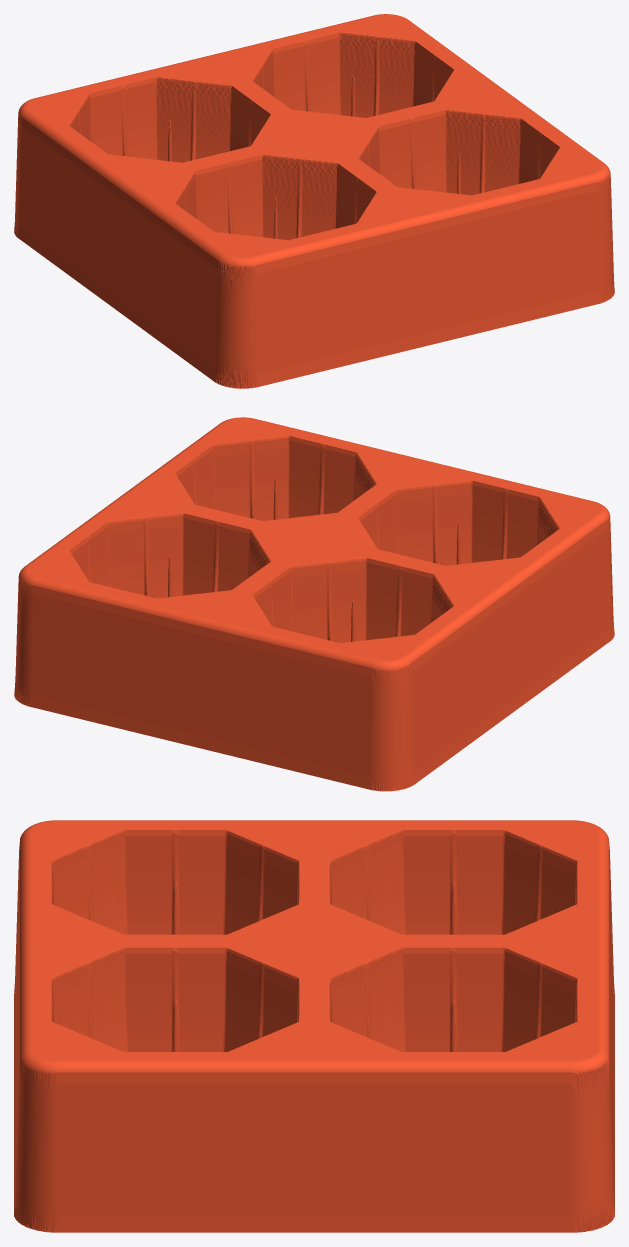
File: mold.glb
The picture shows the model from 3 angles, top to bottom: view 1: azimuth 30°, elevation 25°; view 2: azimuth 150°, elevation 25°; view 3: azimuth 270°, elevation 25°; orthographic projection. The views are drawn at different scales.
Parts seen in each view (by area): view 1: geometry_0; view 2: geometry_0; view 3: geometry_0.
Boxes of the visible parts, left/top/right/bottom form: geometry_0: left=14, top=14, right=614, bottom=388; geometry_0: left=14, top=417, right=614, bottom=791; geometry_0: left=14, top=820, right=614, bottom=1232.
Size of the model in its own units: 0.1248 by 0.0378 by 0.1248.
